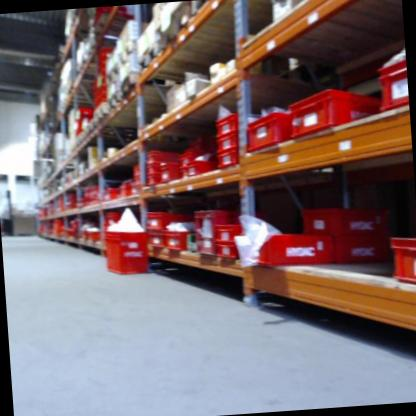pallet: (136, 39, 171, 78), (116, 40, 142, 70), (119, 71, 145, 101), (90, 101, 110, 127), (106, 88, 124, 114), (102, 62, 120, 85)
pallet_truck: (0, 184, 18, 240)
small_load_carrier: (284, 85, 380, 143), (300, 200, 393, 245), (193, 209, 244, 263), (257, 231, 326, 269), (101, 225, 152, 276), (247, 109, 296, 157), (371, 53, 409, 111), (321, 238, 395, 264), (386, 230, 416, 290), (143, 204, 190, 231), (216, 240, 255, 264), (216, 111, 250, 138), (211, 223, 253, 244), (215, 149, 255, 171), (214, 131, 255, 152), (164, 226, 189, 252), (189, 158, 222, 177), (102, 211, 127, 236), (159, 161, 179, 185), (146, 230, 168, 251), (116, 180, 135, 200), (176, 151, 194, 172), (102, 187, 121, 205), (145, 149, 163, 165), (177, 169, 195, 183), (145, 173, 160, 187), (131, 161, 145, 175), (134, 175, 146, 188), (145, 164, 164, 172)
